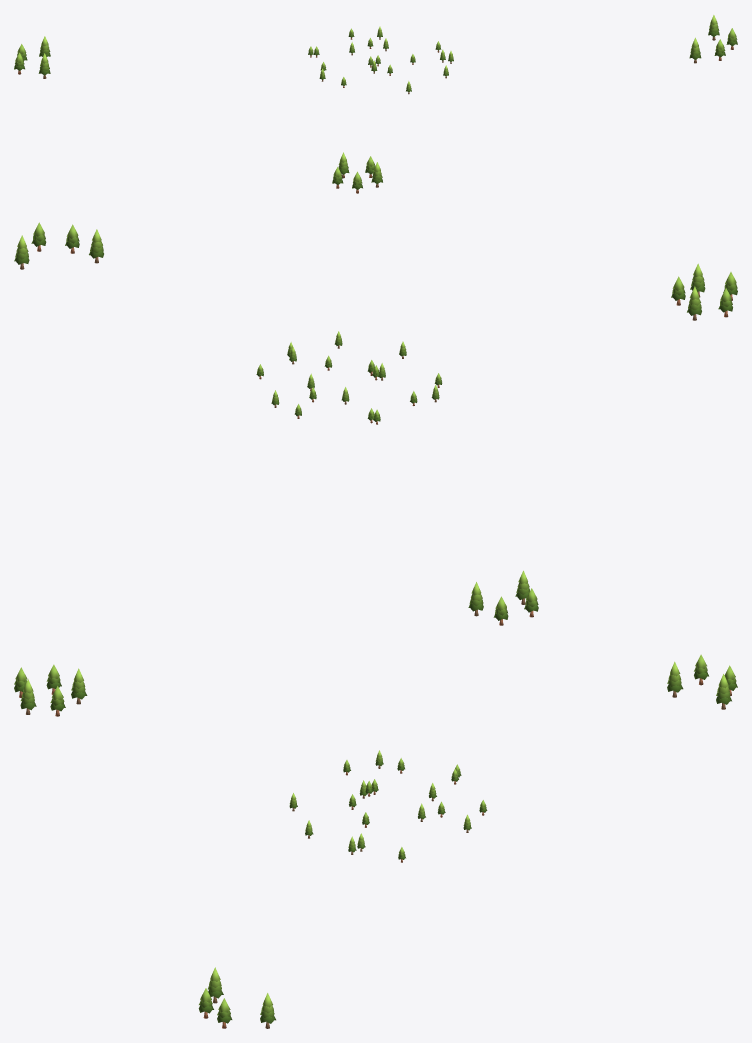
The model's file is pohon.glb.
3 renders of one model, top to bottom at view 1: azimuth 30°, elevation 25°; view 2: azimuth 150°, elevation 25°; view 3: azimuth 270°, elevation 25°, orthographic. The views are drawn at different scales.
Size of the model in its own units: 304 by 32.93 by 248.
3 materials, 3 textured.
